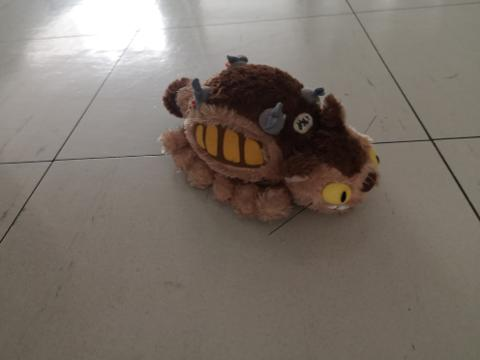nekobus: (153, 46, 389, 239)
